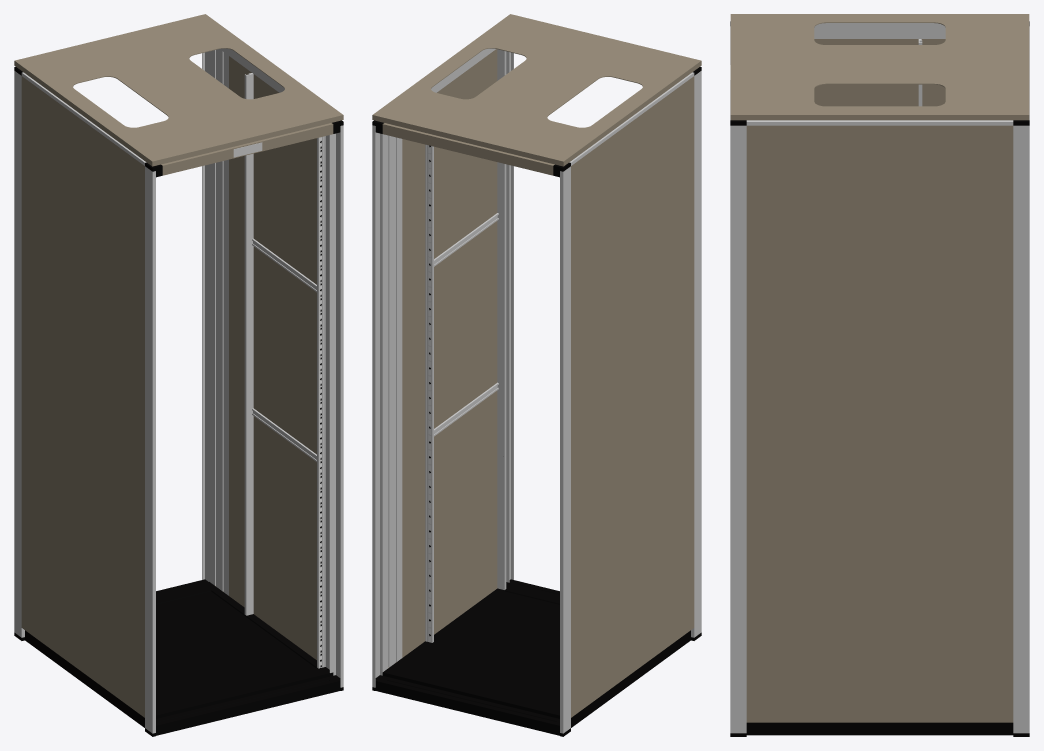
File: RACK_36U.fbx
3 renders of one model, left to right at view 1: azimuth 30°, elevation 25°; view 2: azimuth 150°, elevation 25°; view 3: azimuth 270°, elevation 25°, orthographic. The views are drawn at different scales.
Visible parts, largest first — view 1: Rack089, Rectangle050; view 2: Rack089, Rectangle050; view 3: Rack089, Rectangle050.
Boxes of the visible parts, x1,y1,x2,y2 form: Rack089: [14, 14, 343, 736]; Rectangle050: [25, 579, 340, 735]; Rack089: [372, 14, 701, 736]; Rectangle050: [375, 579, 690, 735]; Rack089: [730, 14, 1029, 736]; Rectangle050: [746, 722, 1013, 735].
Bounding box in the file's own units: 600 × 1725 × 753.
Materials: 5 (2 with a texture image).
